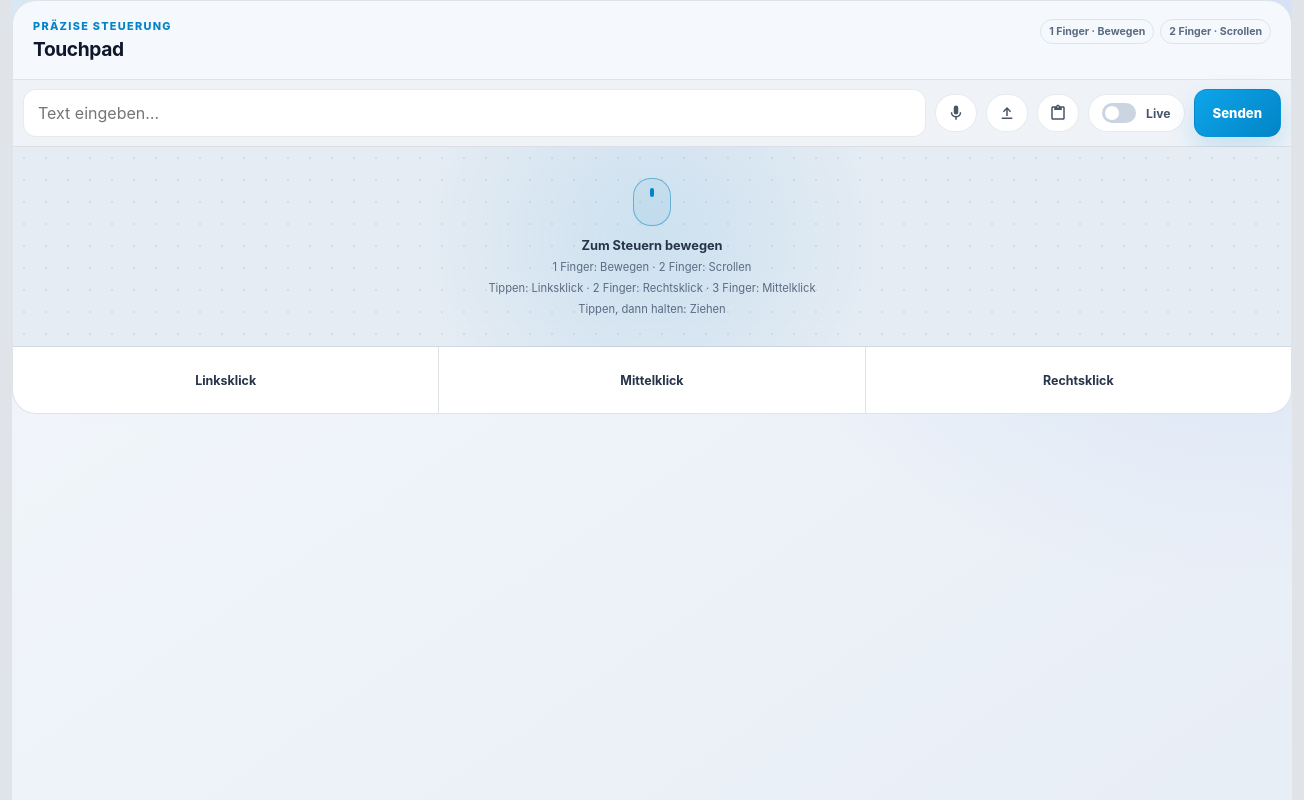
Test: TouchpadComponent › explains that dictation needs HTTPS instead of starting it on a plain-HTTP LAN address
What coordinates should you click on to do the following:
click the switch with class "touchpad-text__mic"
I would click on:
 (956, 113)
Its box is 935,94 -> 977,132.
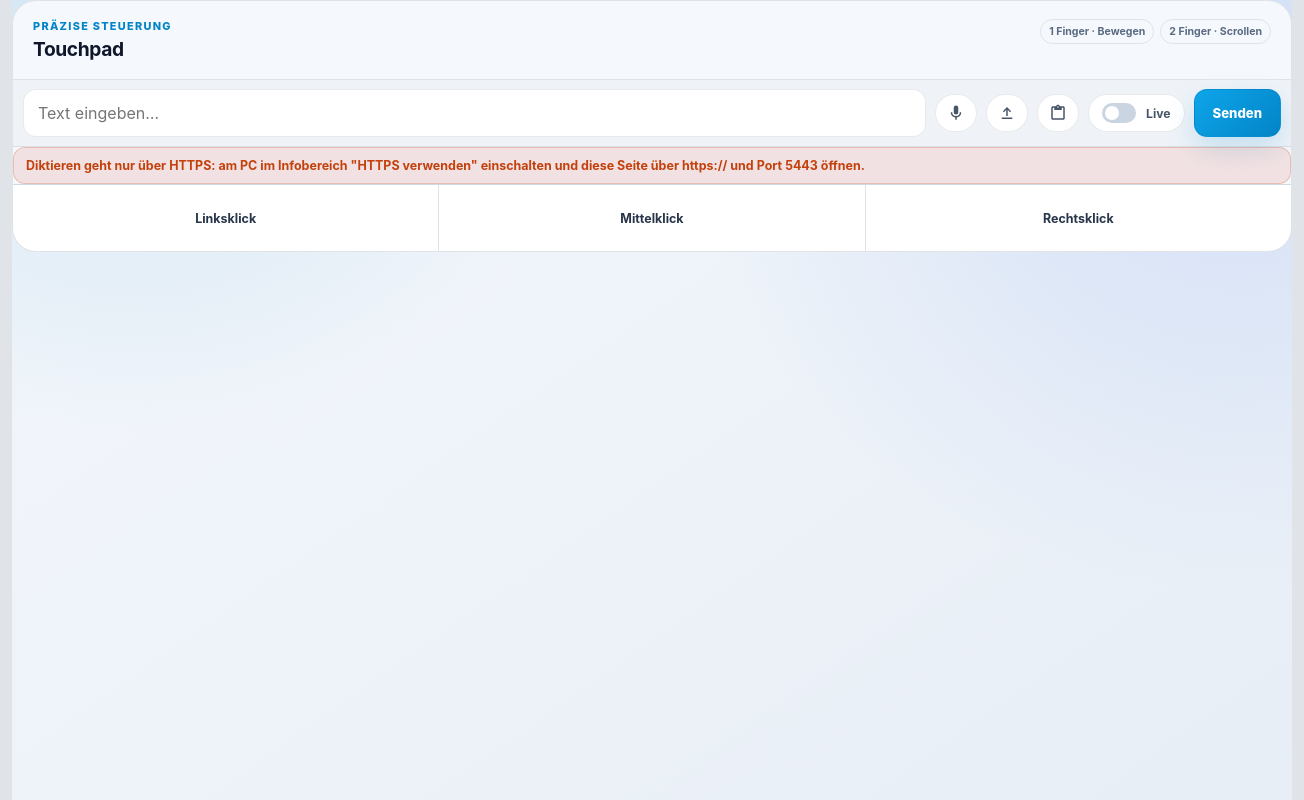
Expected: the text "Diktieren geht nur über HTTPS" is shown, 26,158 -> 865,173
